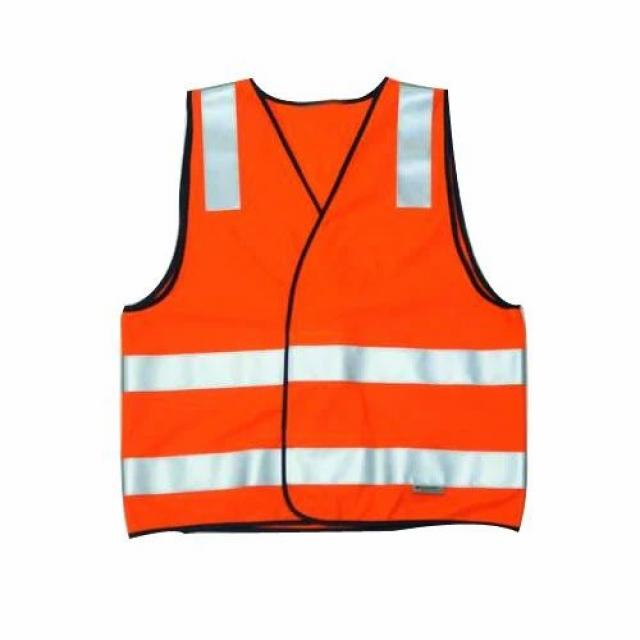Reflective-Jacket: (88, 49, 557, 546)
